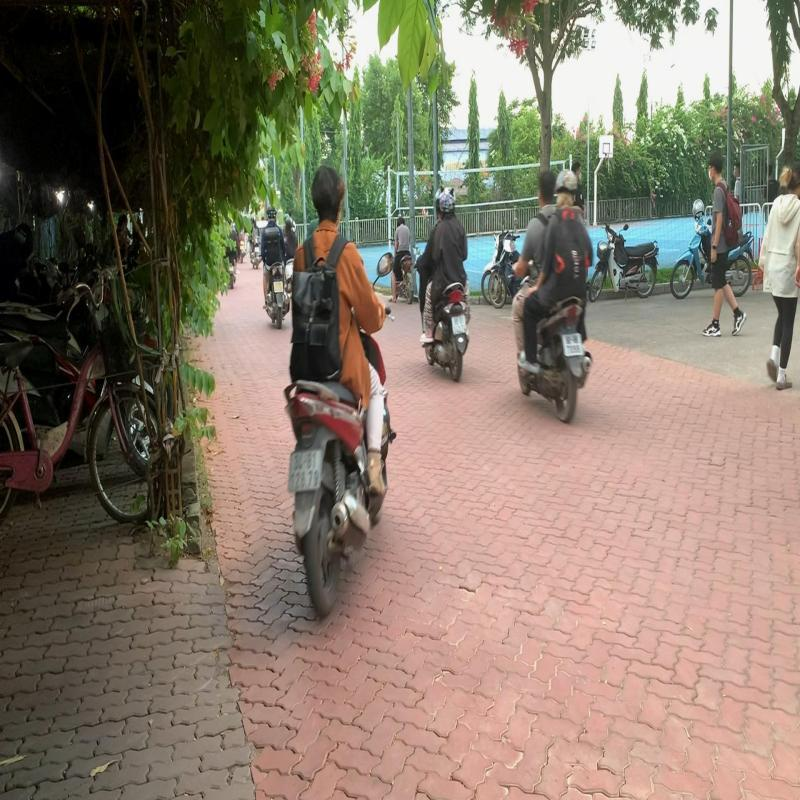nohelmet: (310, 159, 349, 220)
